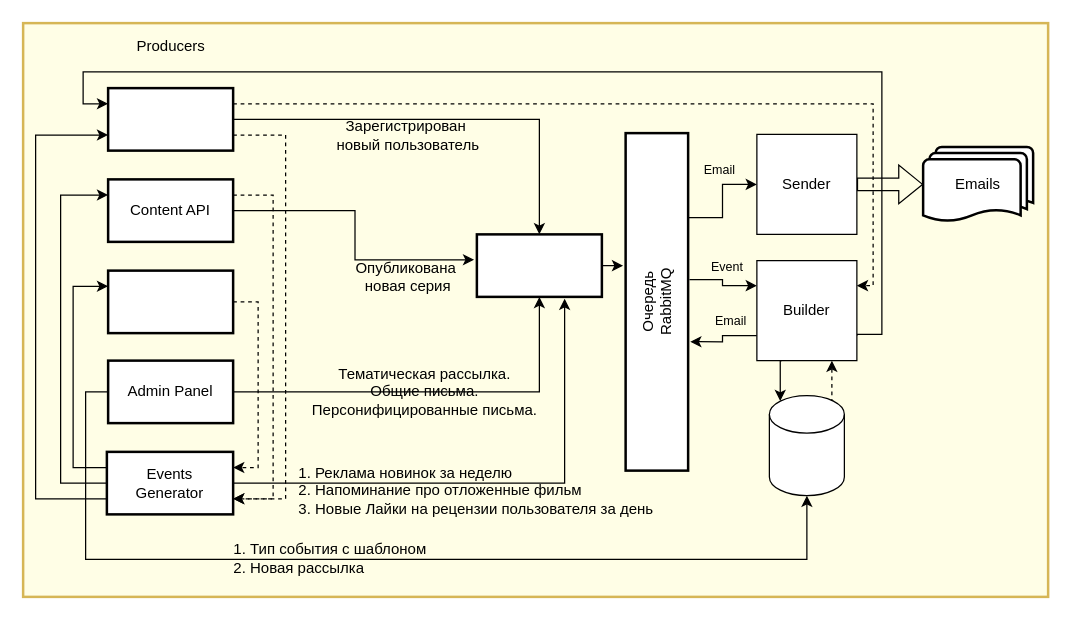
Some shapes in this 1070 by 623 pixel diagram are drawn without their labels. Each missing label, with the centre of its shape:
"Auth API" goes at (x=170, y=118).
"Likes API" goes at (x=170, y=301).
"Notice API" goes at (x=538, y=265).
"Notice DB" goes at (x=806, y=445).
